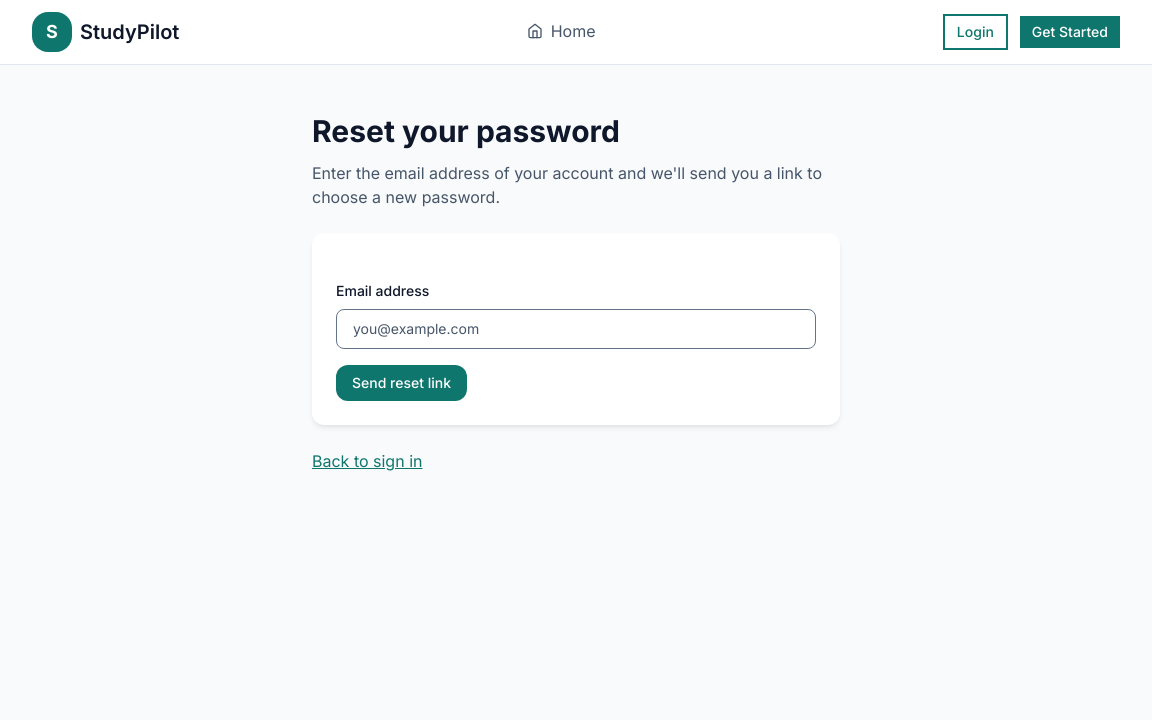
it: ForgotPasswordPage › shows the same generic success for a 200 regardless of account existence
Type "unknown@example.com" into the field labelled "Email address" at (576, 329), box x1=336 y1=309 x2=816 y2=349
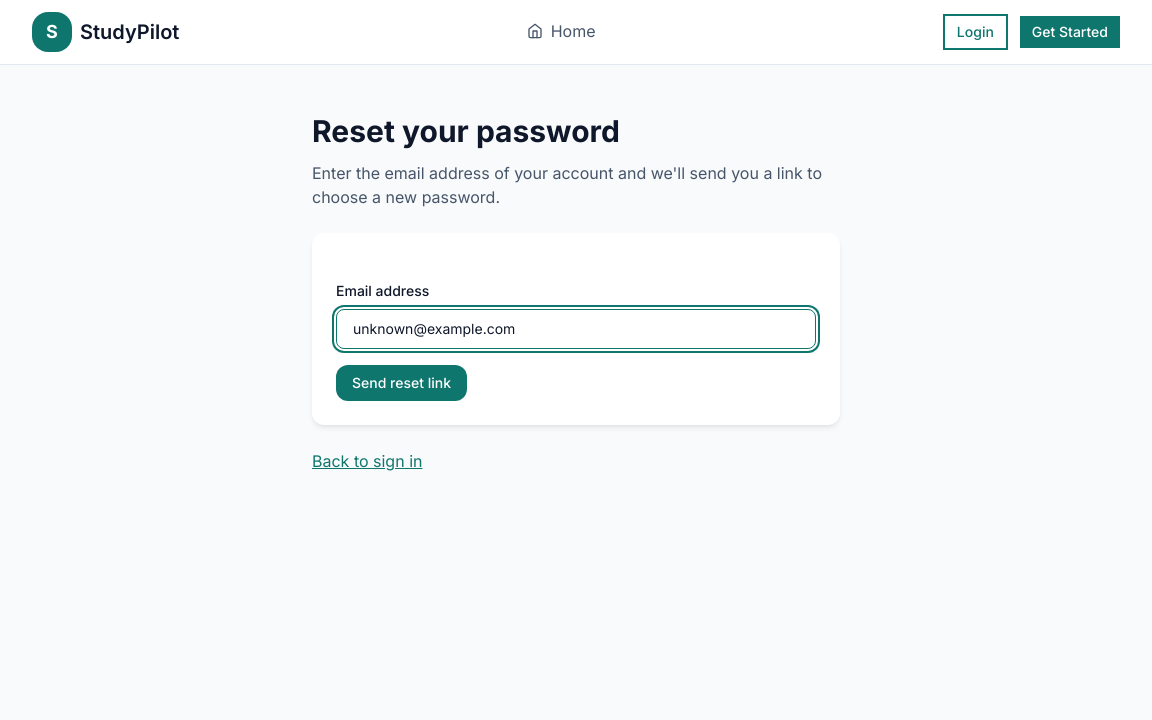
Click the button "Send reset link" at (402, 383), box x1=336 y1=365 x2=467 y2=401
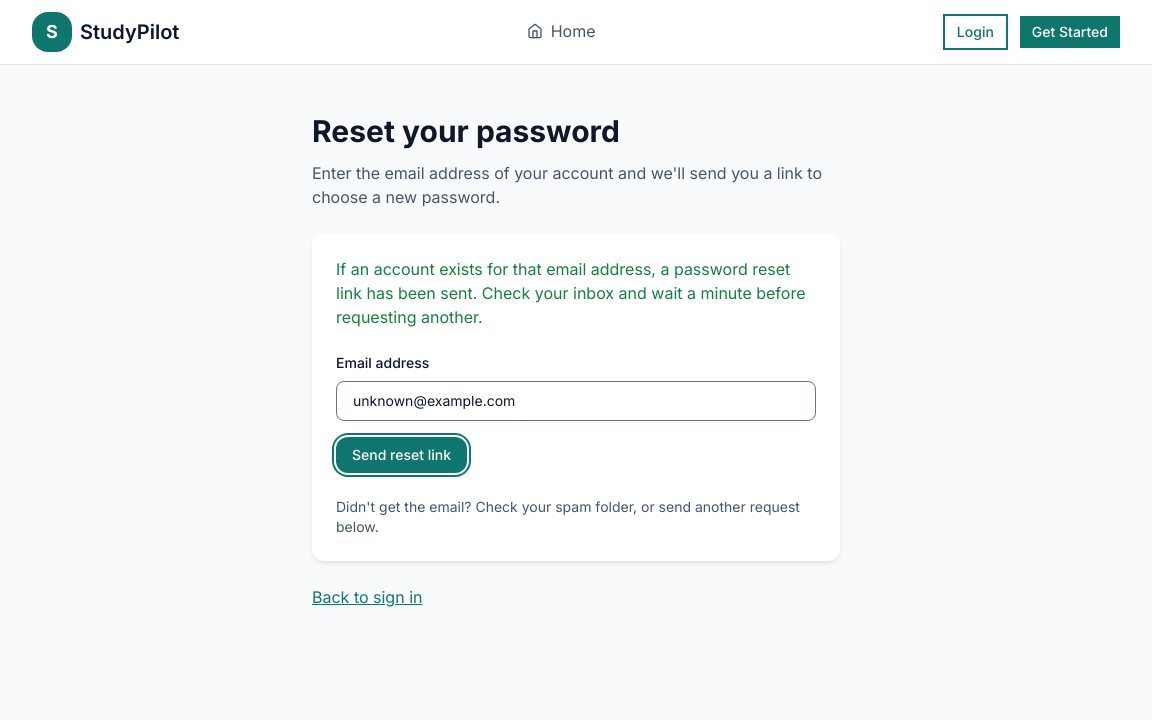
Check: the text "If an account exists for that email address, a password reset link has been sent. Check your inbox and wait a minute bef" is shown, box x1=336 y1=259 x2=806 y2=327
Check: the text "If an account exists for that email address, a password reset link has been sent. Check your inbox and wait a minute bef" is shown once, box x1=336 y1=257 x2=816 y2=329
